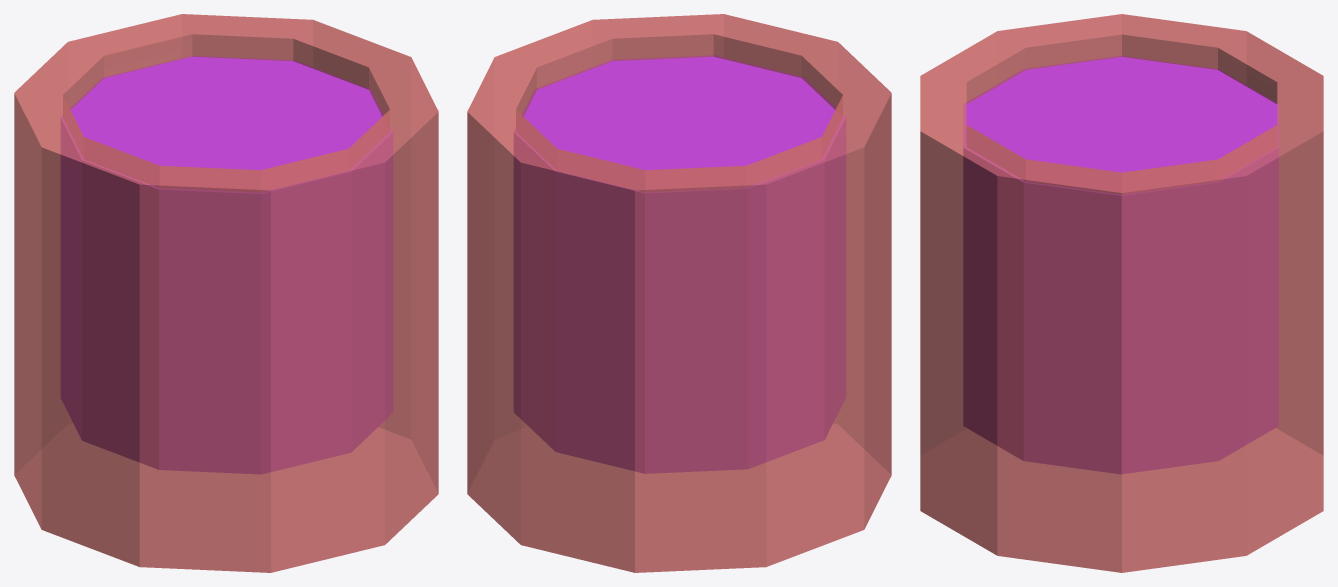
The model's file is Copo vermelho4.fbx.
3 renders of one model, left to right at view 1: azimuth 30°, elevation 25°; view 2: azimuth 150°, elevation 25°; view 3: azimuth 270°, elevation 25°, orthographic.
Visible parts, largest first — view 1: pCylinder3; view 2: pCylinder3; view 3: pCylinder3.
Boxes of the visible parts, left/top/right/bottom form: pCylinder3: left=14, top=14, right=438, bottom=572; pCylinder3: left=467, top=14, right=891, bottom=572; pCylinder3: left=920, top=14, right=1323, bottom=572.
Bounding box in the file's own units: 2 × 1.98 × 1.9.
